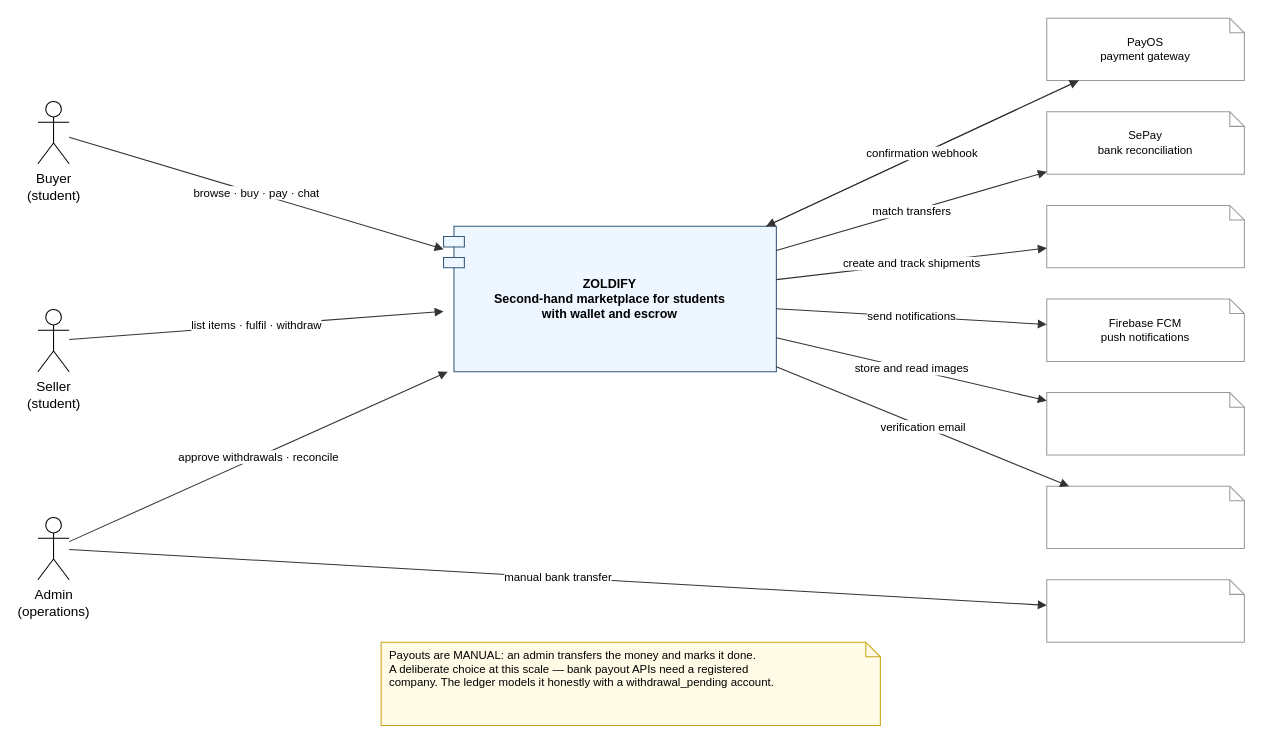
This 1263x744 diagram has some shape labels left out. The box of each missing label's shape, as (x1, y1, x2, y2) in pixels:
Bank manual payouts: (1046, 579, 1244, 642)
Cloudflare R2 image storage: (1046, 392, 1244, 455)
GHN shipping: (1046, 204, 1244, 268)
Gmail SMTP email: (1046, 485, 1244, 549)
